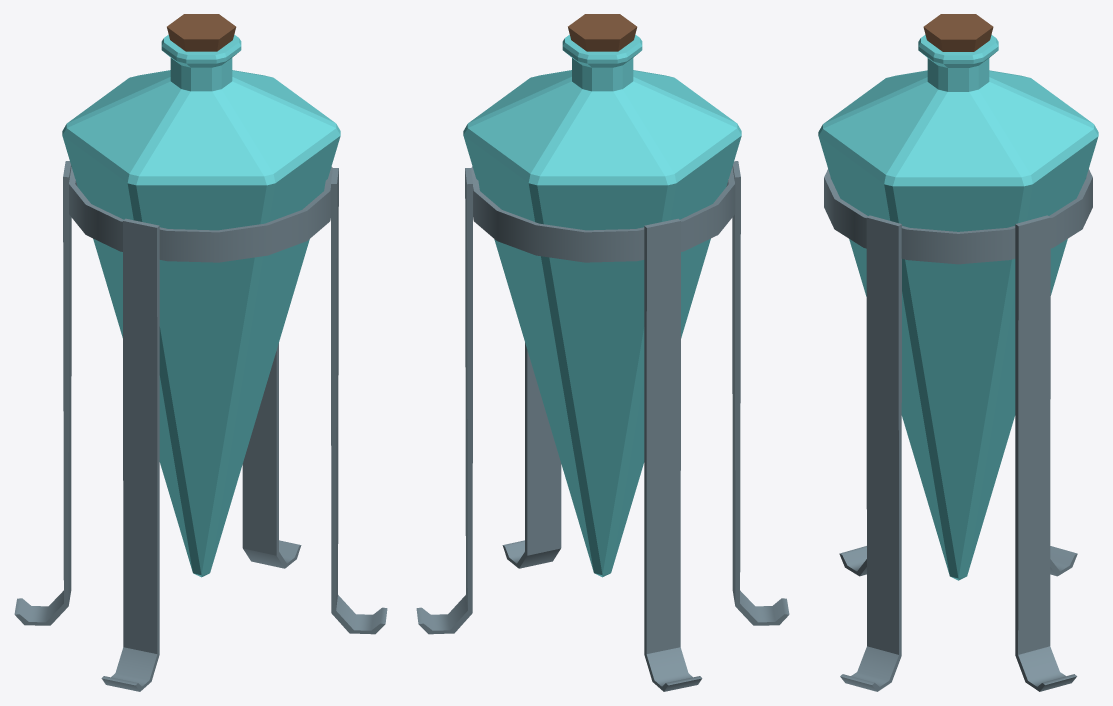
Rendered from Potion_05_Blue.fbx.
3 renders of one model, left to right at view 1: azimuth 30°, elevation 25°; view 2: azimuth 150°, elevation 25°; view 3: azimuth 270°, elevation 25°, orthographic.
Visible parts, largest first — view 1: Cone.019, Cube.043, Cylinder.054, Cube.044, Cube.045, Cube.042, Cylinder.055, Cylinder.056; view 2: Cone.019, Cube.045, Cylinder.054, Cube.042, Cube.043, Cube.044, Cylinder.055, Cylinder.056; view 3: Cone.019, Cube.044, Cube.042, Cylinder.054, Cylinder.055, Cylinder.056, Cube.045, Cube.043.
Boxes of the visible parts, x1,y1,x2,y2 form: Cone.019: [62, 70, 340, 577]; Cube.043: [101, 218, 159, 691]; Cylinder.054: [69, 166, 332, 262]; Cube.044: [242, 343, 301, 568]; Cube.045: [14, 161, 71, 625]; Cube.042: [331, 168, 387, 634]; Cylinder.055: [161, 34, 241, 91]; Cylinder.056: [167, 14, 236, 51]; Cone.019: [463, 70, 741, 577]; Cube.045: [644, 218, 702, 691]; Cylinder.054: [471, 166, 735, 262]; Cube.042: [502, 343, 561, 568]; Cube.043: [732, 161, 789, 625]; Cube.044: [416, 168, 472, 634]; Cylinder.055: [562, 34, 642, 91]; Cylinder.056: [568, 14, 637, 51]; Cone.019: [818, 70, 1098, 580]; Cube.044: [1015, 215, 1076, 691]; Cube.042: [840, 215, 901, 691]; Cylinder.054: [824, 169, 1092, 264]; Cylinder.055: [918, 34, 998, 91]; Cylinder.056: [923, 14, 993, 51]; Cube.045: [1050, 546, 1077, 576]; Cube.043: [839, 546, 866, 576].
Size of the model in its own units: 19.94 by 39.59 by 16.79.
